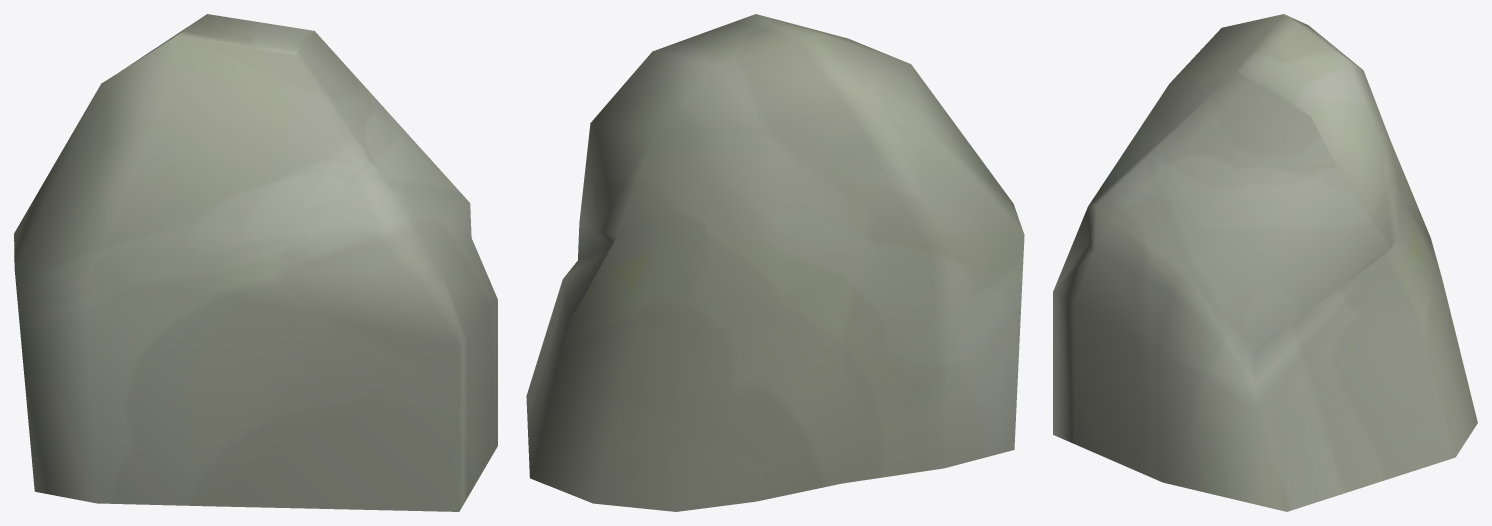
The model's file is stoneSmall.fbx.
3 views of the same model, side by side, from view 1: azimuth 30°, elevation 25°; view 2: azimuth 150°, elevation 25°; view 3: azimuth 270°, elevation 25° (orthographic). The views are drawn at different scales.
Parts seen in each view (by area): view 1: pCube1; view 2: pCube1; view 3: pCube1.
Part boxes in pixels (x1=…): pCube1: x1=14, y1=14, x2=497, y2=511; pCube1: x1=526, y1=14, x2=1024, y2=511; pCube1: x1=1053, y1=14, x2=1477, y2=511.
Bounding box in the file's own units: 2.17 × 1.88 × 1.94.
